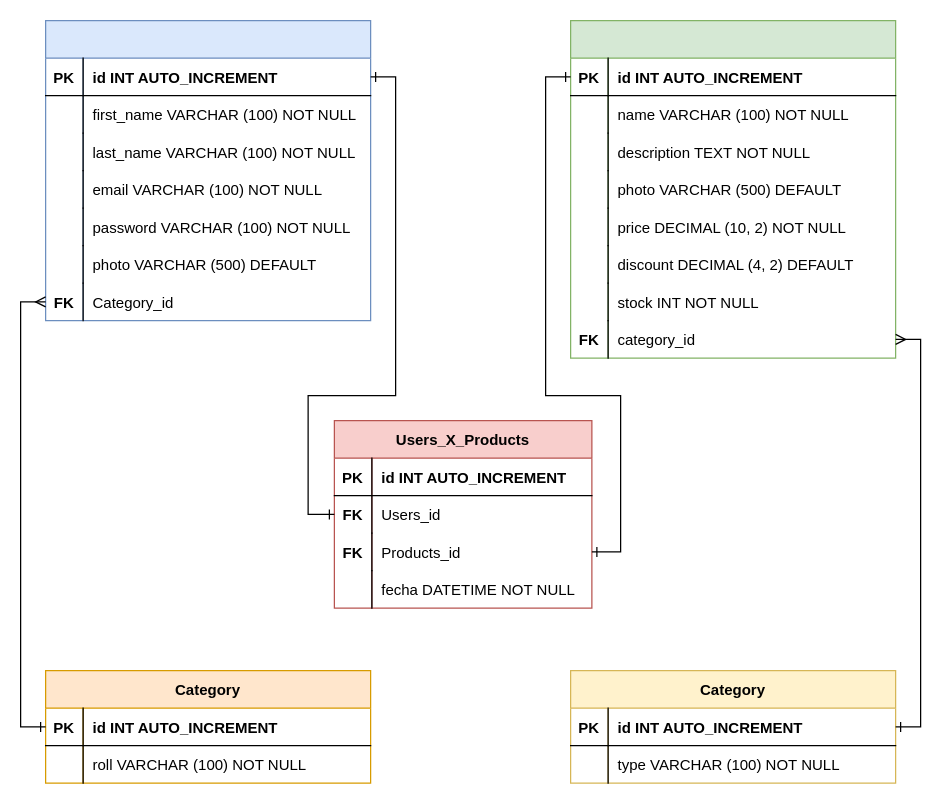
Some shapes in this 941 by 804 pixel diagram are drawn without their labels. Each missing label, with the box of its shape:
Products: (569, 19, 896, 358)
Users: (44, 19, 371, 321)
